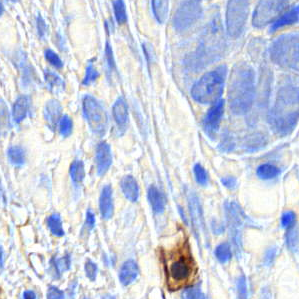Lymphocyte: (155, 232, 202, 290)
